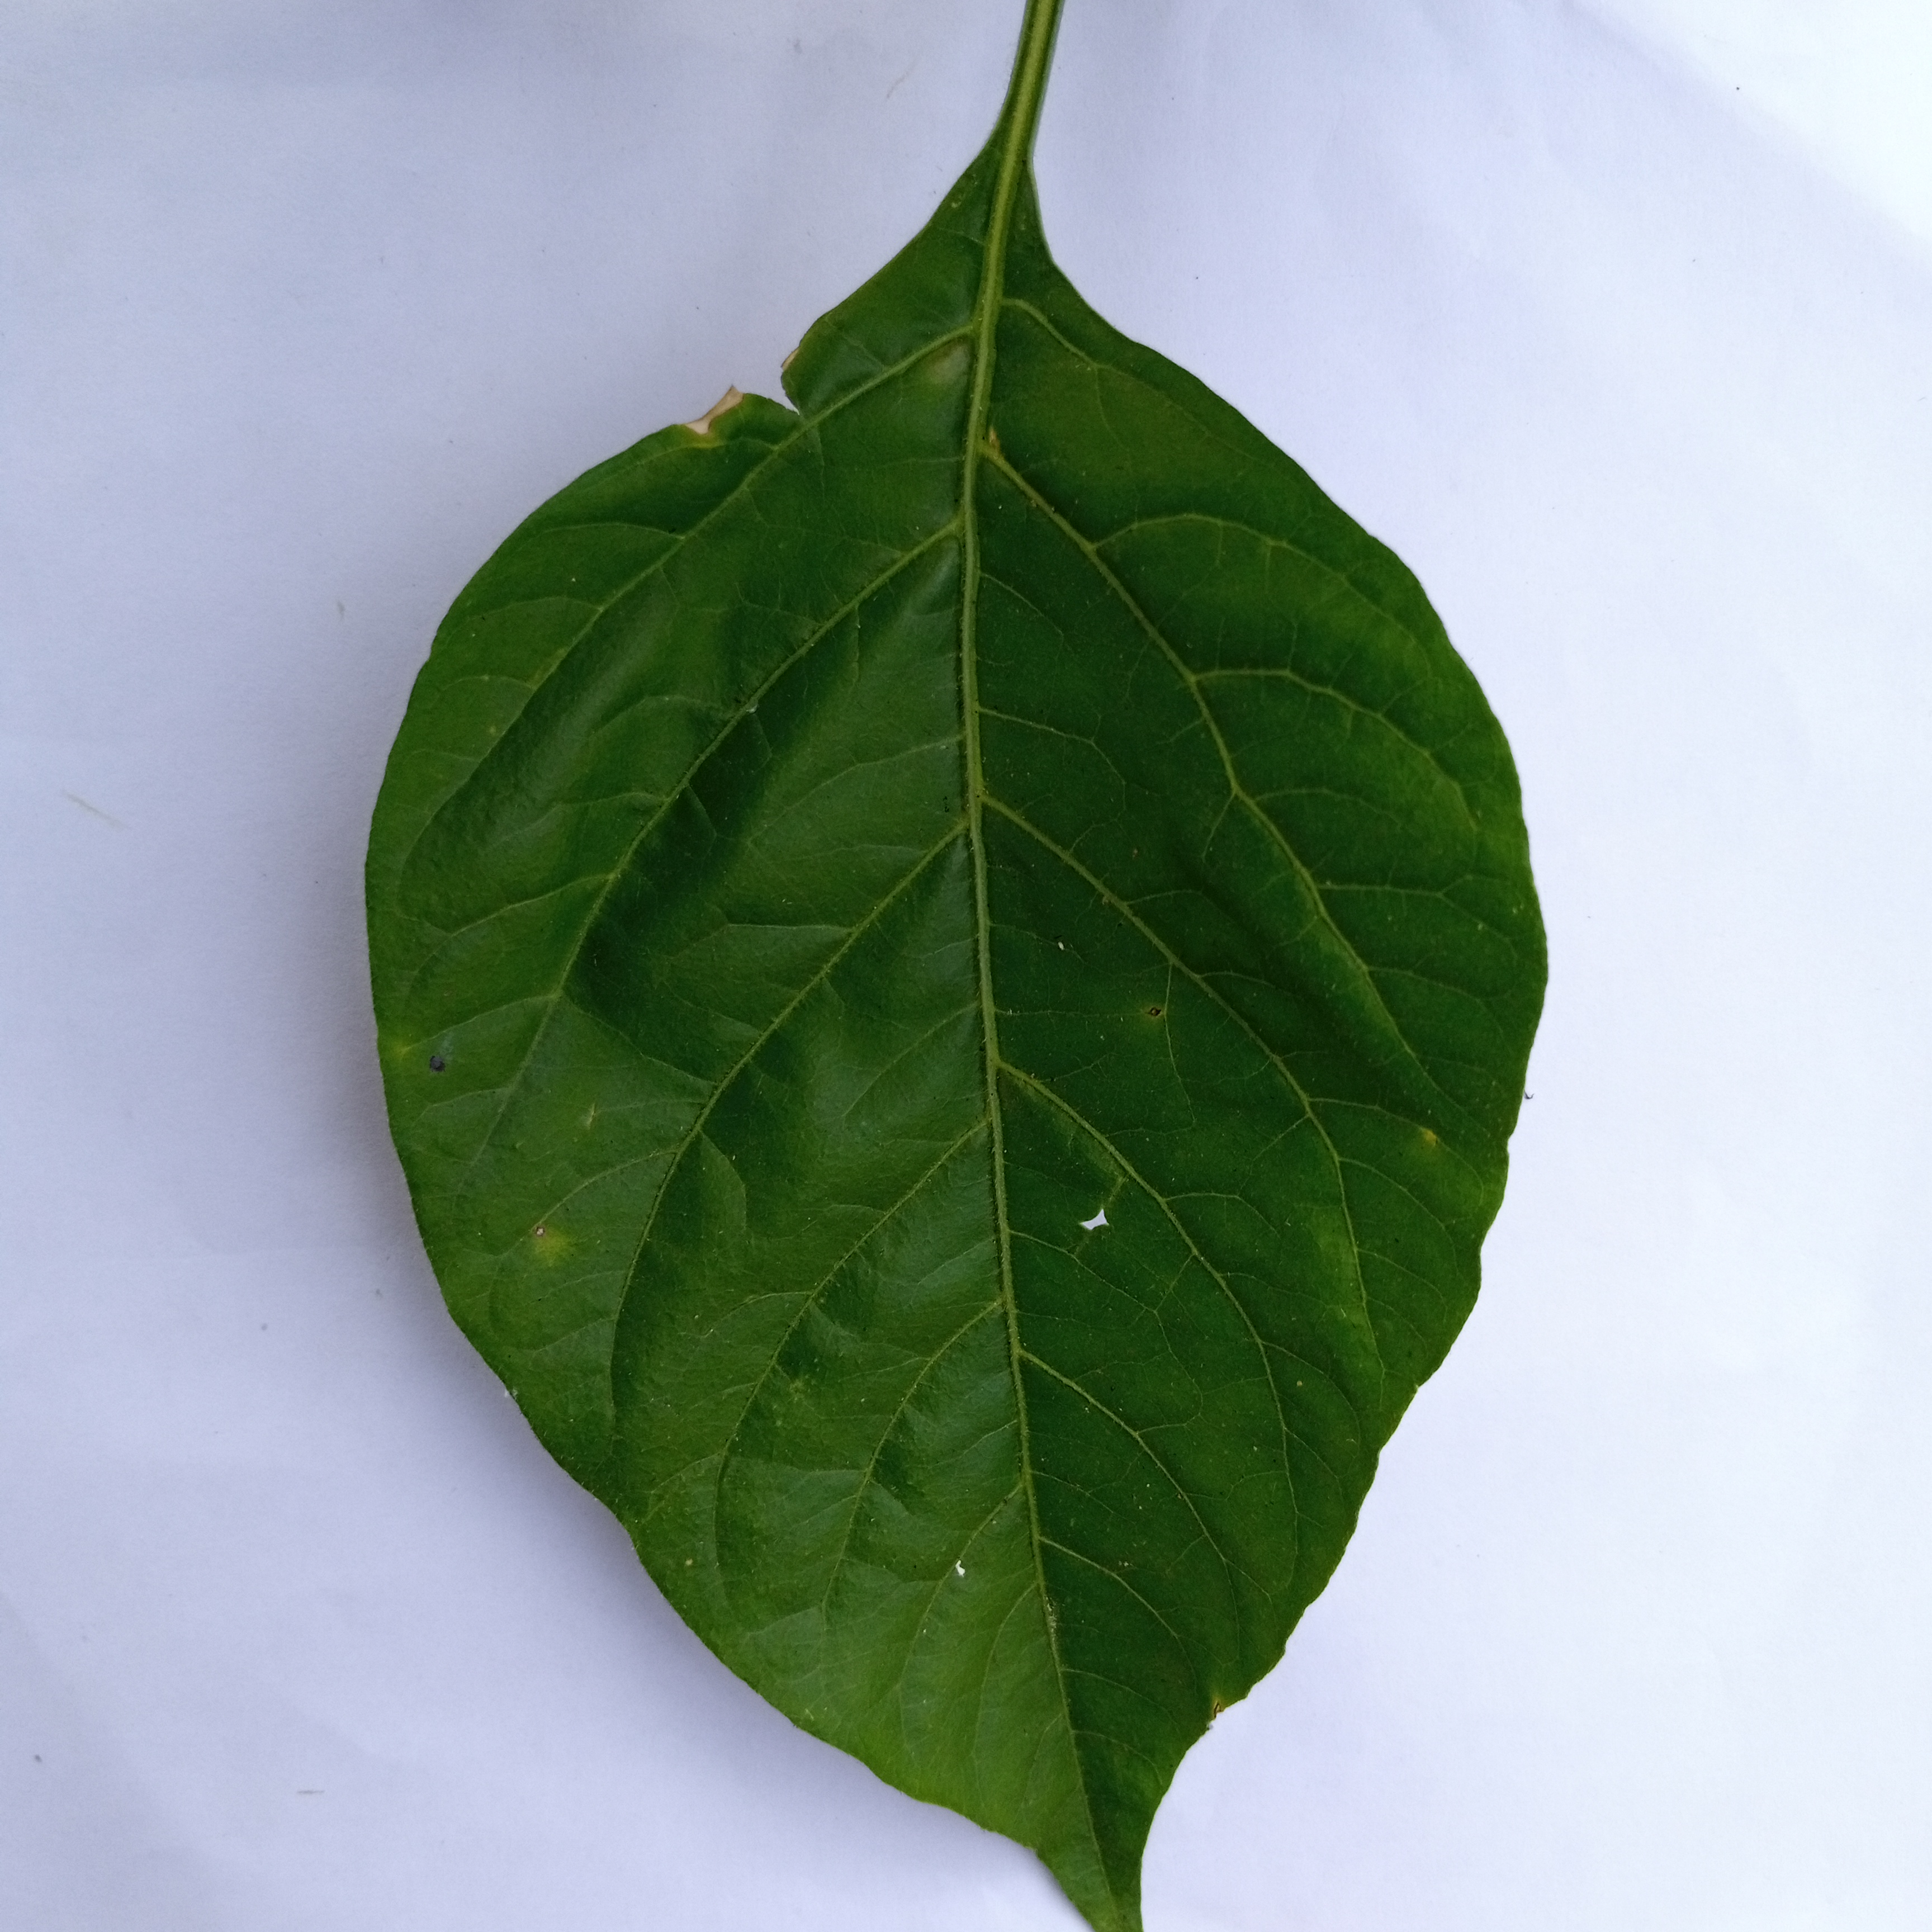Leaf: (310, 124, 1626, 1932)
